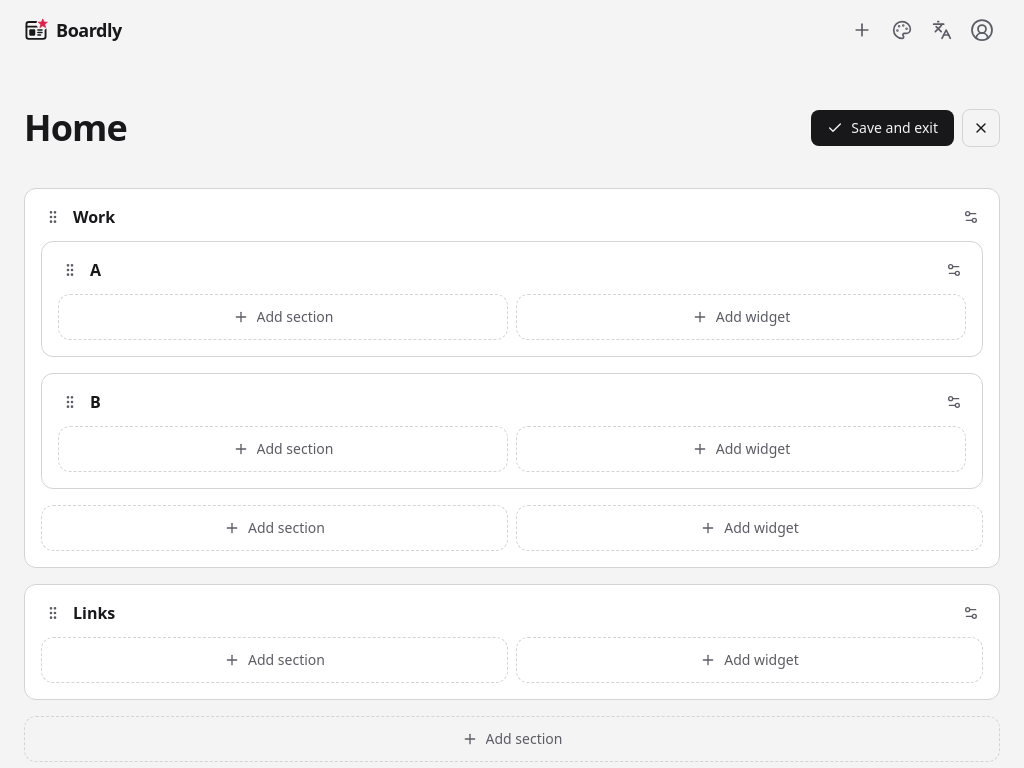
Test: section dialog › deletes a section with everything inside after confirming
Check: the button "Save and exit" is shown, box [811,110,954,146]
Click the button named "Edit Work". click: (971, 217)
box: [959,205,983,229]
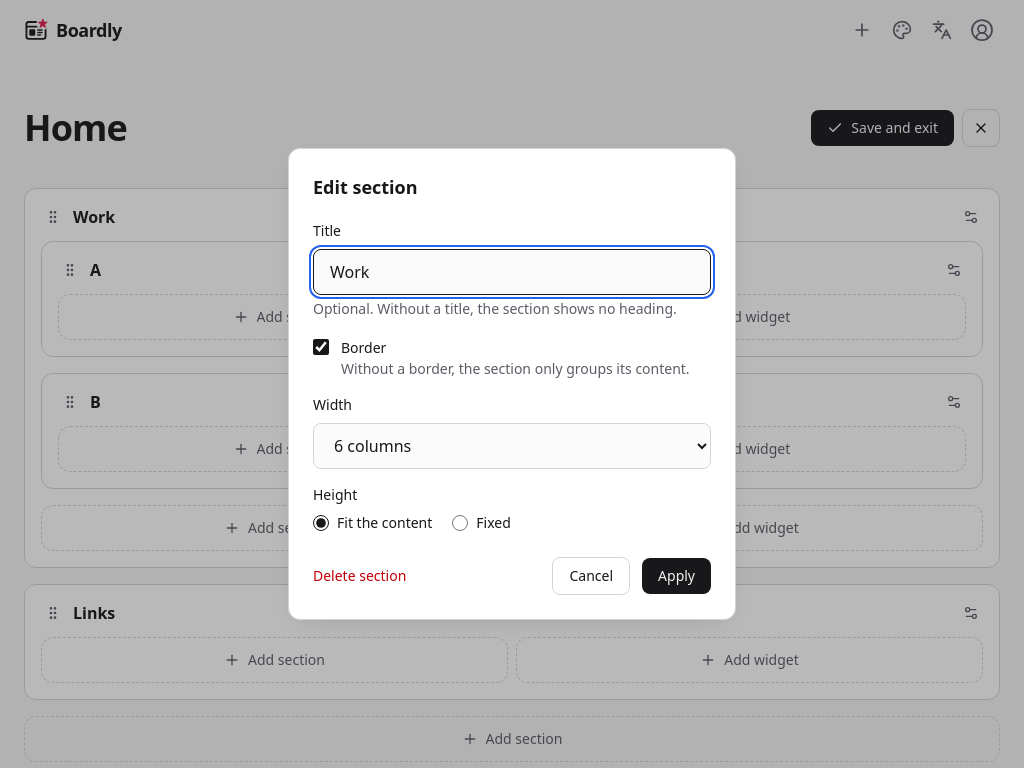
Click the button "Delete section". click: (360, 576)
box: [313,566,406,586]
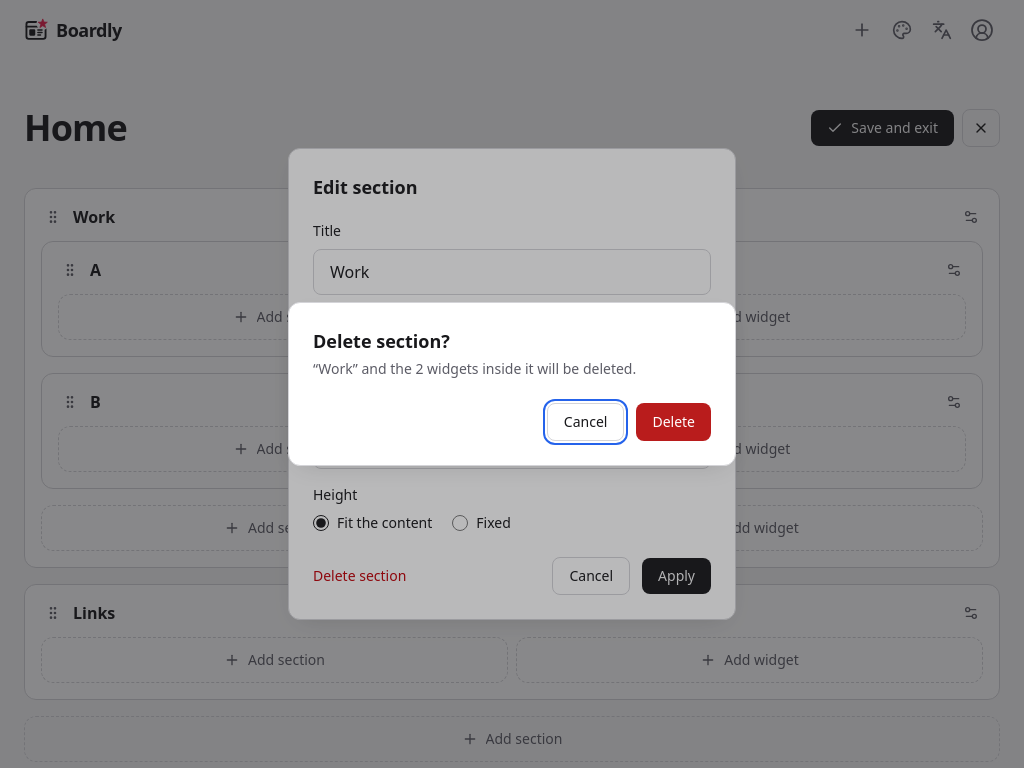
Check: the dialog shows "“Work” and the 2 widgets inside it will be deleted.", box [313,359,636,378]
Click the button "Delete". click: (674, 422)
box: [636,403,711,441]
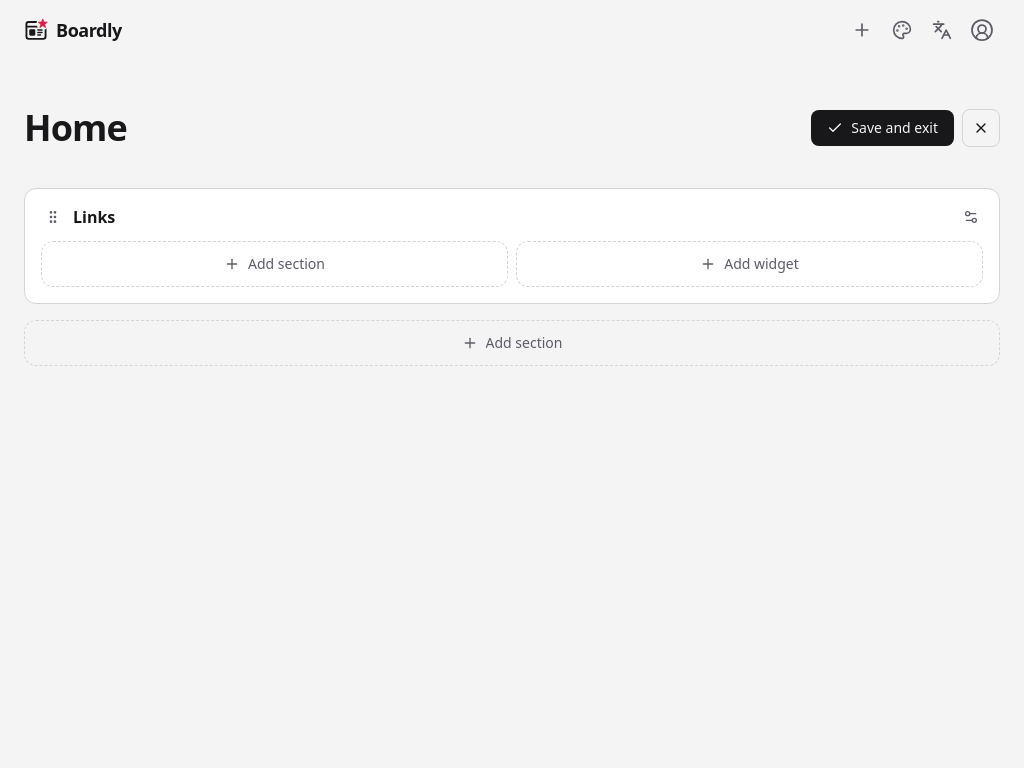
Check: the element with test id "section-Work" is gone
Check: the element with test id "section-A" is gone
